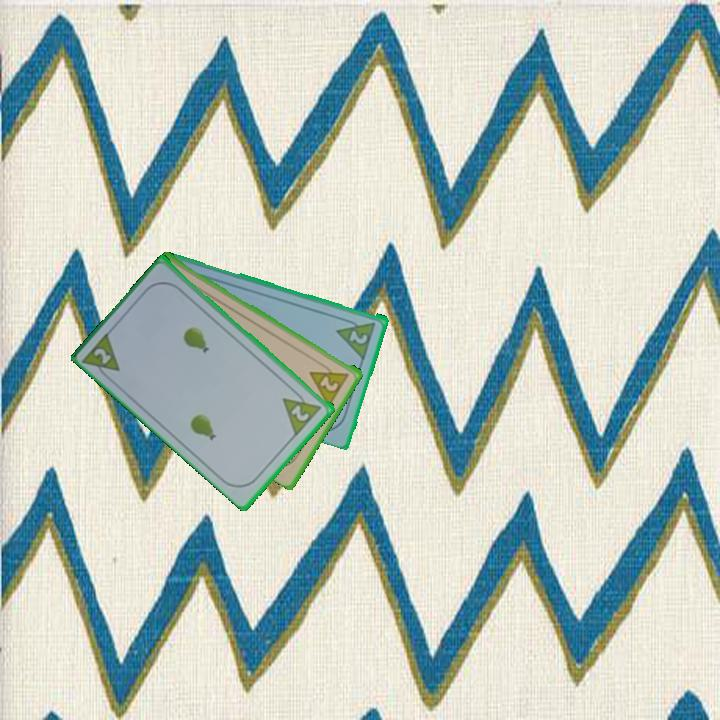2p: (279, 384, 325, 438), (333, 313, 379, 361), (90, 344, 115, 367), (317, 372, 342, 394)
